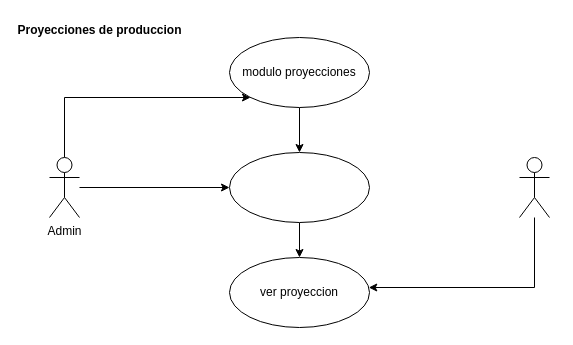
The diagram is 573 pixels wide and 345 high, and some of its shapes have lost their labels. Here are the shapes that lost their labels. From the top down, the box of each, then its label:
(228, 152, 370, 222): seleccionar especie de pez
(518, 156, 550, 218): Sistema
